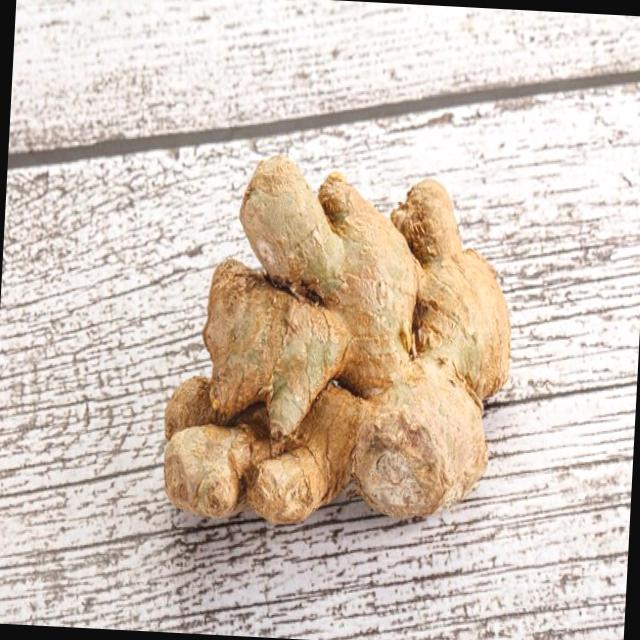ginger-root: (140, 139, 540, 584)
